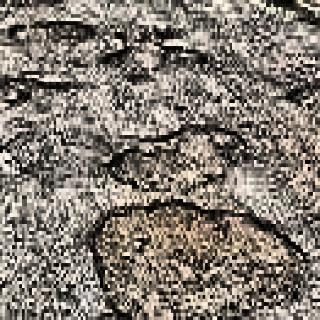pothole: (85, 196, 320, 320), (101, 119, 249, 196), (104, 27, 210, 80), (4, 14, 97, 56)
